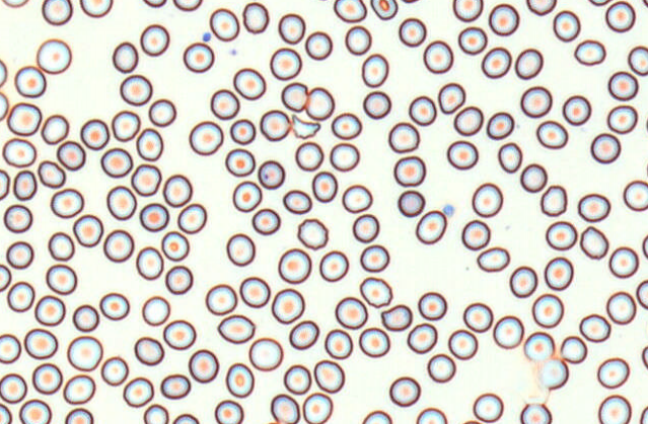PLT: (443, 201, 457, 218), (201, 30, 212, 42)
RBC: (67, 335, 103, 371), (36, 38, 71, 74), (188, 120, 223, 155), (277, 247, 311, 283), (248, 337, 283, 371), (271, 288, 304, 324), (217, 314, 255, 344), (7, 102, 41, 135), (415, 209, 447, 244), (531, 293, 563, 328), (471, 182, 503, 217), (334, 296, 367, 329), (269, 47, 302, 80), (233, 67, 266, 100), (492, 315, 524, 349), (188, 348, 219, 383), (536, 357, 568, 390), (313, 359, 344, 393), (162, 319, 196, 350), (106, 185, 136, 220), (225, 362, 254, 398), (296, 217, 328, 249), (205, 283, 237, 315), (14, 65, 46, 97), (520, 85, 552, 117), (359, 276, 392, 307), (50, 187, 83, 218), (596, 357, 629, 388), (24, 328, 57, 359), (103, 229, 134, 262), (72, 214, 103, 247), (393, 155, 426, 186), (488, 3, 519, 36), (119, 74, 152, 105), (2, 137, 36, 167), (162, 173, 192, 207), (543, 256, 573, 290), (209, 7, 239, 41), (423, 39, 453, 73), (122, 376, 154, 407), (608, 246, 639, 278), (259, 109, 290, 141), (182, 41, 214, 72), (388, 121, 419, 153), (319, 249, 349, 282), (131, 163, 161, 196), (606, 291, 636, 324), (577, 192, 610, 222), (139, 23, 169, 56), (597, 394, 631, 423), (305, 86, 334, 120), (579, 225, 608, 259), (302, 392, 333, 423), (389, 376, 420, 407), (34, 295, 65, 326), (45, 263, 76, 294), (239, 276, 270, 307), (590, 132, 621, 163), (607, 70, 638, 101), (63, 374, 95, 404), (358, 327, 390, 357), (232, 180, 262, 212), (32, 362, 62, 394), (100, 147, 132, 177), (545, 220, 577, 250), (481, 46, 511, 78), (446, 140, 478, 170), (605, 0, 635, 32), (226, 233, 255, 266), (135, 246, 163, 280), (361, 53, 389, 87), (523, 331, 554, 361), (288, 319, 319, 349), (407, 322, 437, 353), (472, 392, 503, 422), (447, 329, 478, 359), (462, 302, 493, 332), (453, 105, 483, 136), (579, 313, 611, 342), (80, 118, 109, 150), (177, 202, 206, 234), (536, 120, 568, 149), (514, 47, 543, 79), (552, 9, 580, 42), (136, 127, 163, 161), (270, 393, 300, 423), (607, 104, 637, 134), (40, 113, 69, 144), (461, 219, 490, 250), (210, 88, 239, 119), (341, 184, 372, 213), (141, 295, 170, 326), (562, 94, 591, 125), (111, 110, 140, 141), (380, 303, 412, 331), (509, 265, 537, 297), (437, 82, 465, 114), (426, 353, 455, 383), (56, 140, 85, 170), (417, 291, 447, 320), (225, 148, 255, 177), (294, 141, 323, 171), (329, 142, 359, 171), (139, 202, 169, 231), (134, 336, 164, 365), (324, 328, 352, 359), (100, 355, 128, 386), (280, 81, 308, 112), (6, 281, 34, 312), (161, 230, 189, 261), (408, 95, 436, 126), (540, 184, 567, 216), (242, 1, 269, 33), (278, 12, 305, 44), (476, 246, 509, 272), (362, 90, 391, 119), (283, 364, 311, 394), (257, 159, 285, 189), (359, 244, 389, 272), (304, 30, 332, 60), (398, 17, 426, 47), (99, 292, 129, 320), (457, 26, 487, 54), (0, 372, 27, 403), (311, 170, 337, 202), (112, 41, 138, 73), (574, 39, 606, 65), (37, 159, 65, 188), (3, 204, 32, 232), (165, 265, 193, 294), (148, 98, 176, 127), (47, 231, 74, 261), (344, 25, 371, 55), (331, 112, 361, 139), (18, 399, 51, 423), (397, 189, 425, 217), (486, 111, 514, 139), (6, 240, 33, 269), (520, 163, 547, 192), (352, 213, 379, 242), (251, 208, 280, 235), (160, 373, 190, 399), (41, 0, 72, 25), (497, 142, 522, 173), (623, 179, 647, 211), (560, 335, 587, 363), (72, 304, 99, 332), (282, 189, 312, 214), (13, 169, 37, 200), (333, 0, 366, 22), (229, 118, 255, 145), (214, 399, 243, 423), (452, 0, 483, 22), (519, 402, 551, 423), (0, 333, 21, 363), (627, 45, 647, 75), (79, 0, 113, 17), (370, 0, 398, 20), (143, 403, 169, 423), (416, 407, 447, 423), (64, 407, 93, 423), (526, 0, 556, 15), (361, 409, 392, 423), (636, 279, 647, 309), (172, 0, 202, 11), (0, 168, 10, 200), (0, 263, 11, 292), (172, 413, 199, 423), (0, 402, 12, 423), (0, 91, 8, 121), (1, 0, 29, 8), (0, 59, 7, 87), (142, 0, 166, 7), (639, 405, 647, 423), (641, 345, 647, 369), (588, 0, 611, 6), (642, 234, 647, 258), (461, 419, 482, 423), (401, 0, 419, 3), (642, 0, 648, 7), (311, 0, 332, 1)
Schistocyte: (291, 114, 322, 142)
